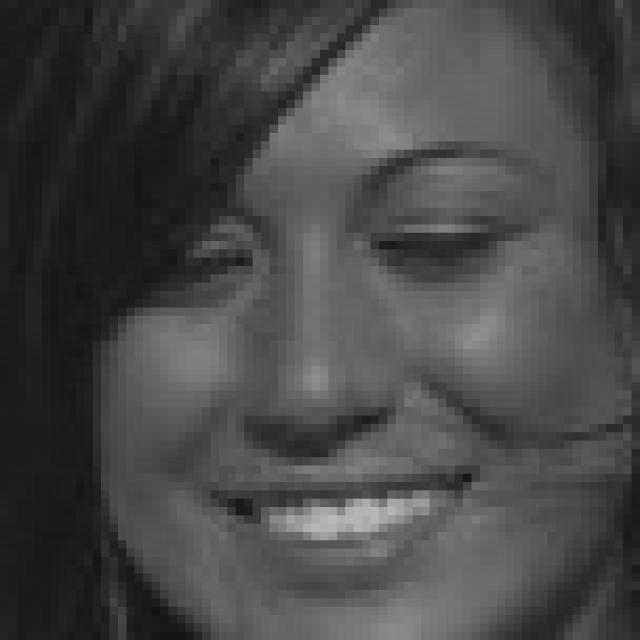real: (74, 92, 616, 612), (130, 180, 504, 316)
